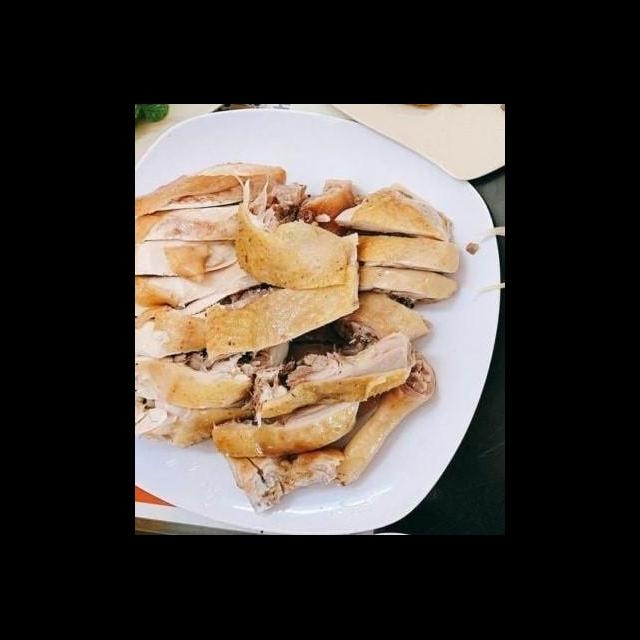thit ga: (136, 158, 294, 452), (199, 228, 364, 372), (319, 344, 440, 492), (250, 326, 420, 424), (226, 170, 353, 292), (209, 392, 364, 460), (224, 438, 350, 516), (327, 180, 458, 248), (329, 288, 435, 358), (347, 260, 458, 312), (350, 230, 463, 278)
